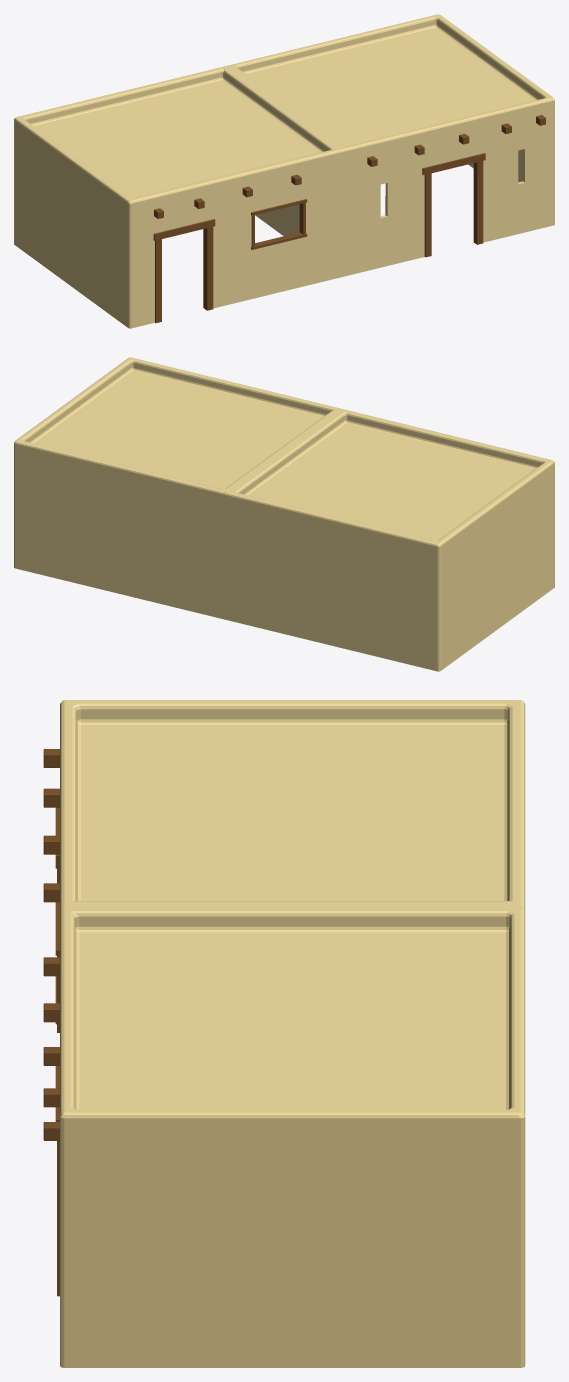
The model's file is building_02.glb.
3 renders of one model, top to bottom at view 1: azimuth 30°, elevation 25°; view 2: azimuth 150°, elevation 25°; view 3: azimuth 270°, elevation 25°, orthographic. The views are drawn at different scales.
Parts seen in each view (by area): view 1: house1.003; view 2: house1.003; view 3: house1.003.
Part boxes in pixels (bbox=[...]): house1.003: bbox=[14, 14, 554, 328]; house1.003: bbox=[14, 357, 554, 671]; house1.003: bbox=[43, 700, 525, 1367].
Size of the model in its own units: 6.92 by 1.97 by 3.38.
